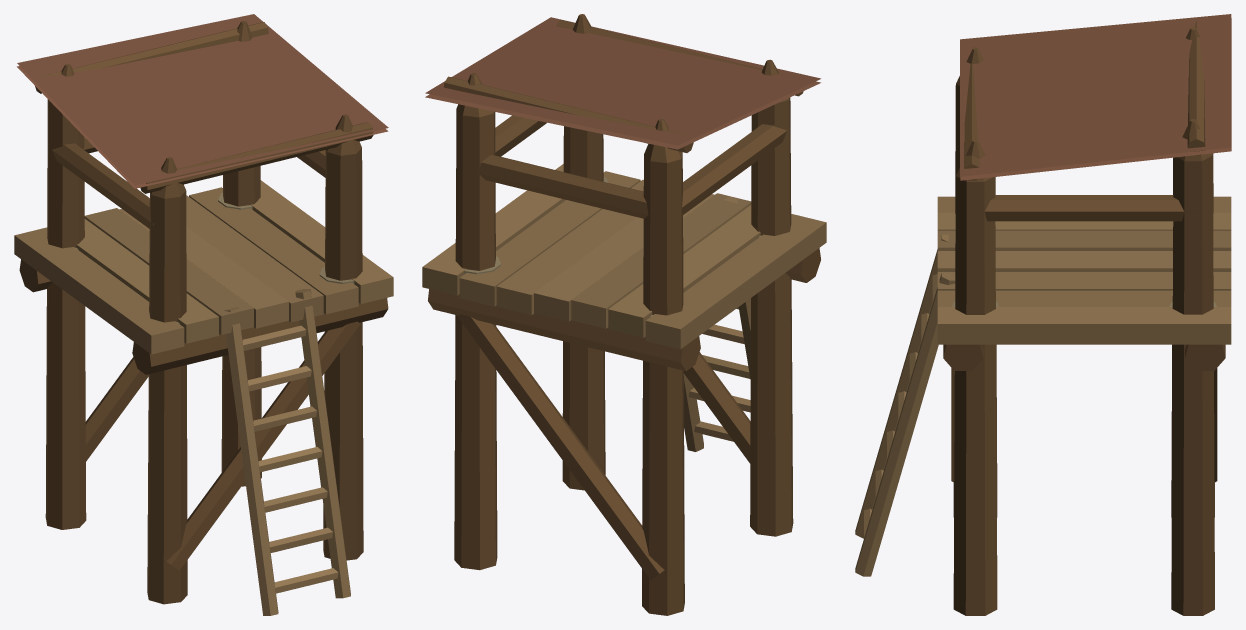
Rendered from lookout-platform.glb.
3 renders of one model, left to right at view 1: azimuth 30°, elevation 25°; view 2: azimuth 150°, elevation 25°; view 3: azimuth 270°, elevation 25°, orthographic. The views are drawn at different scales.
Parts seen in each view (by area): view 1: lookout-platform; view 2: lookout-platform; view 3: lookout-platform.
Boxes of the visible parts, bbox=[...] form: lookout-platform: bbox=[14, 14, 393, 615]; lookout-platform: bbox=[422, 14, 826, 615]; lookout-platform: bbox=[855, 14, 1231, 615].
Size of the model in its own units: 1.82 by 3.12 by 2.18.
